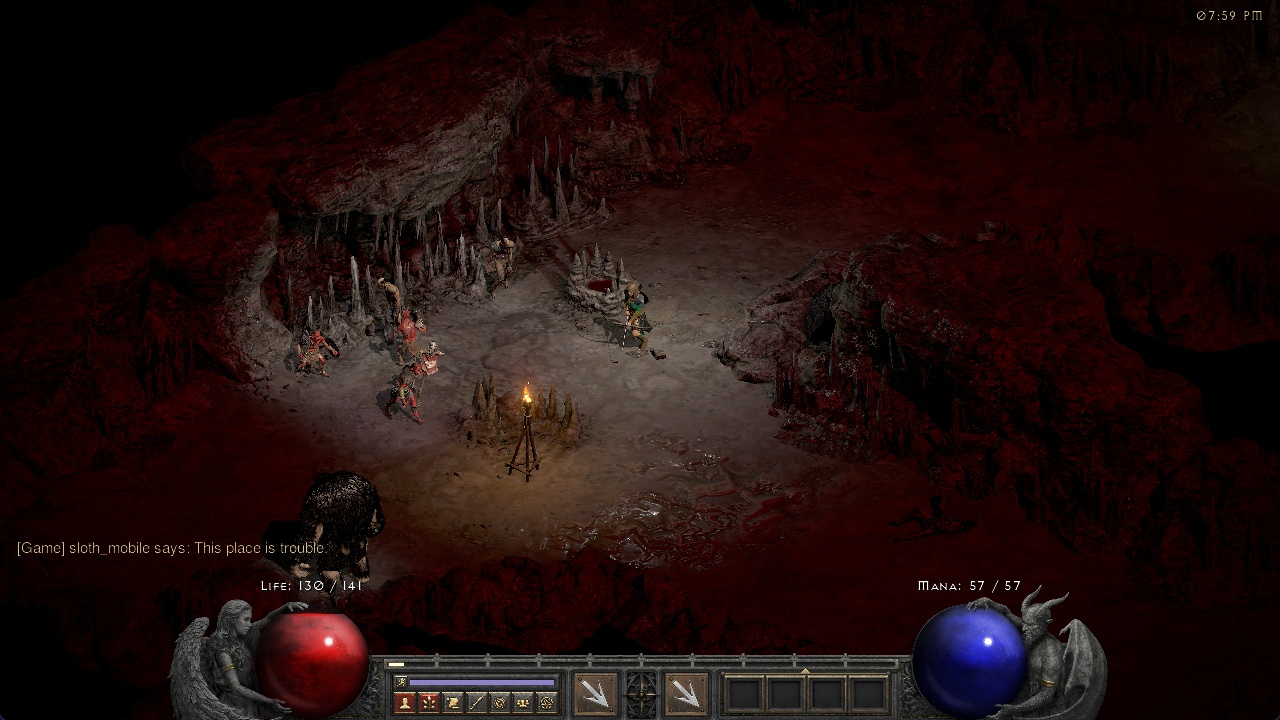fallen: (294, 325, 340, 377), (388, 307, 428, 359)
